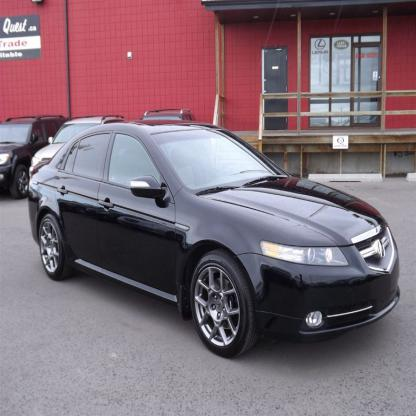car: (25, 119, 403, 361)
